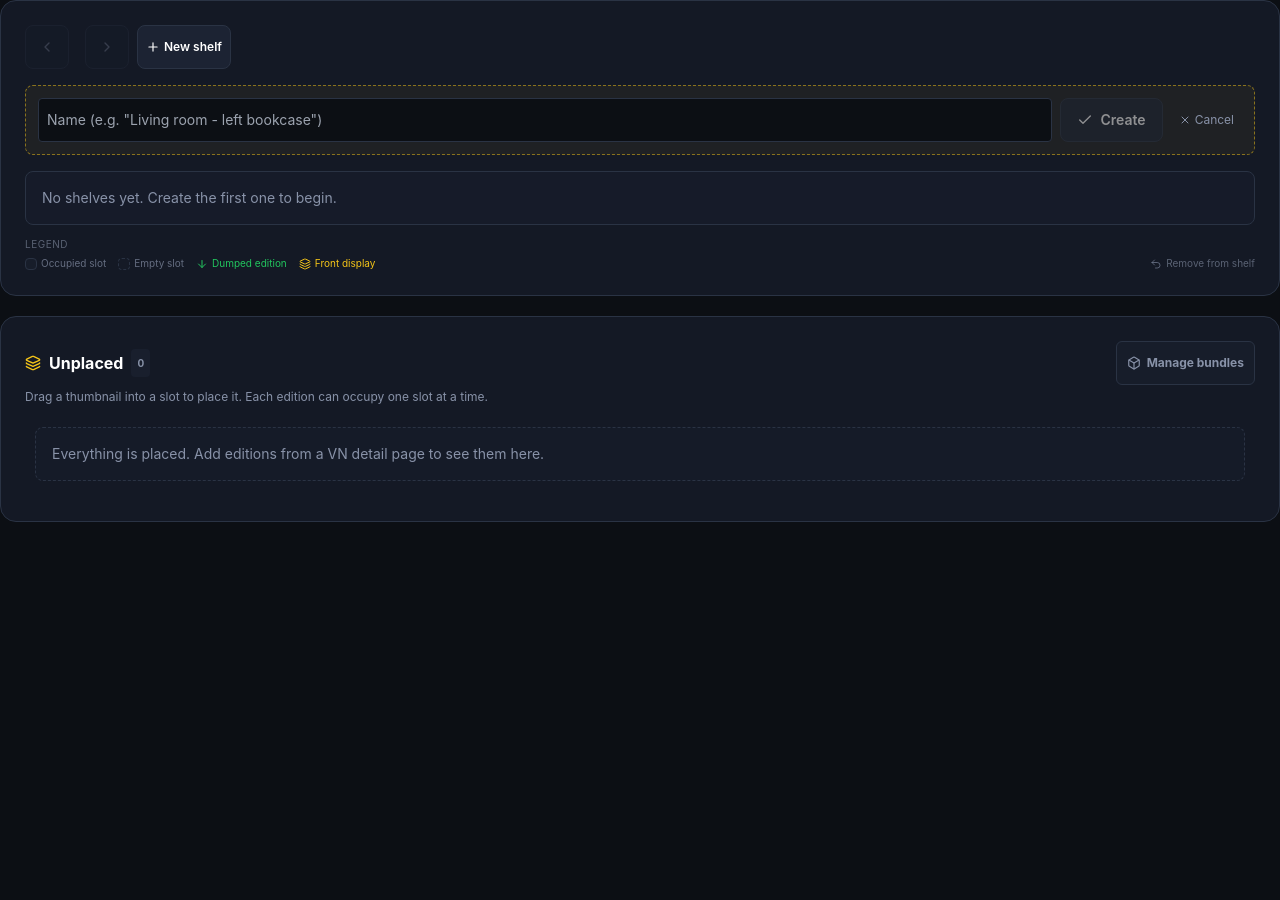
Test: ShelfLayoutEditor branches › toasts when shelf creation returns a malformed success payload
Type "Broken shelf" into the field labelled "Name (e.g. \"Living room - left bookcase\")".
click(545, 120); type("Broken shelf")  # box [38, 98, 1052, 142]
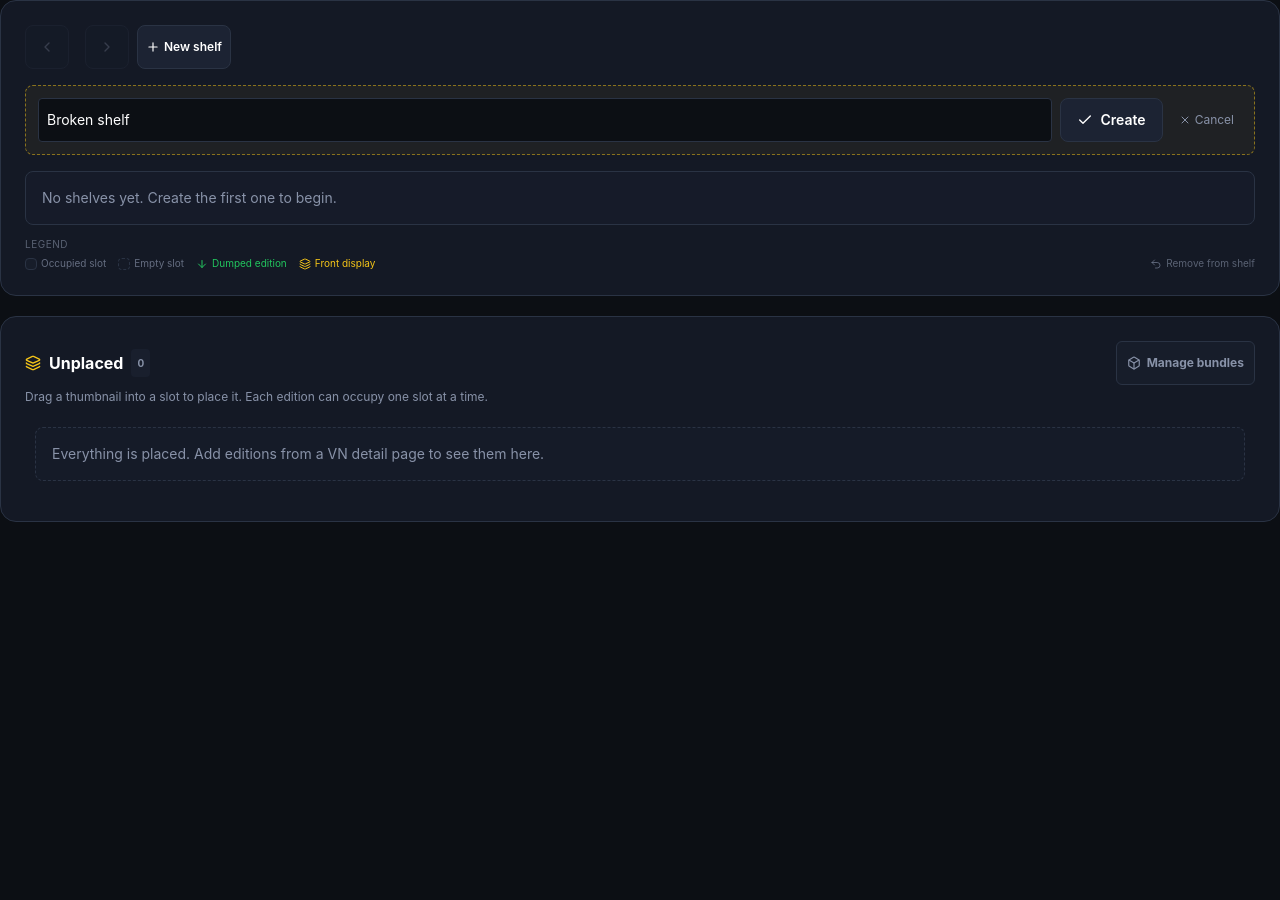
Click the button "Create".
click(1111, 120)  # box [1060, 98, 1163, 142]
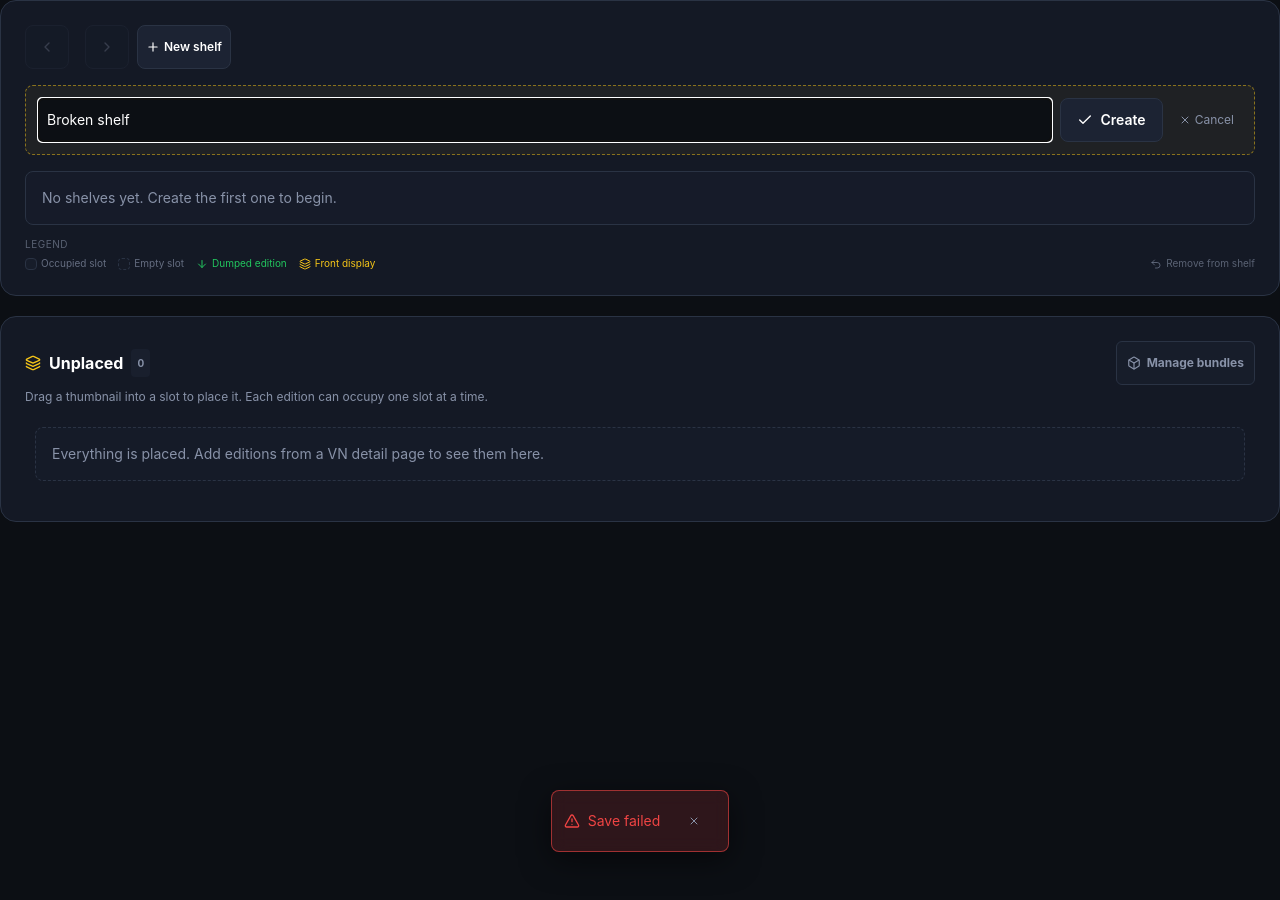
Result: the text "Save failed" is shown at [588, 811, 660, 831]
